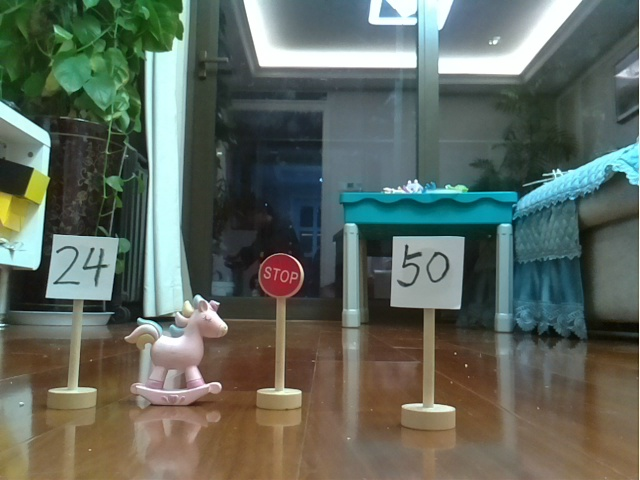Horse: (122, 286, 230, 407)
Speed Limit 24: (42, 231, 121, 420)
Speed Limit 50: (383, 227, 474, 435)
Stop Sign: (251, 247, 315, 420)
